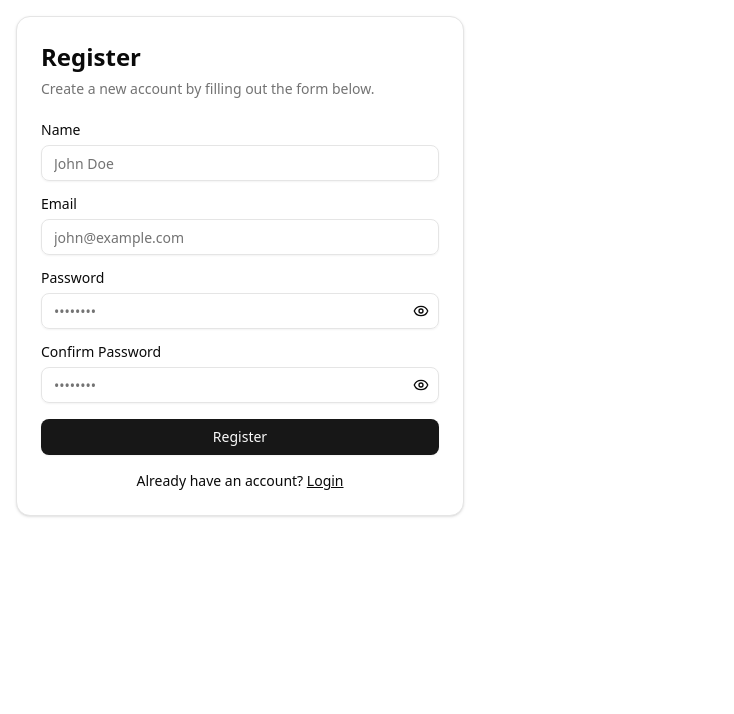
RegisterPage › shows error toast when backend returns an error (e.g., username exists)
Type "existing" into the field labelled "Name".
click(240, 163); type("existing")  # box [41,145,439,181]
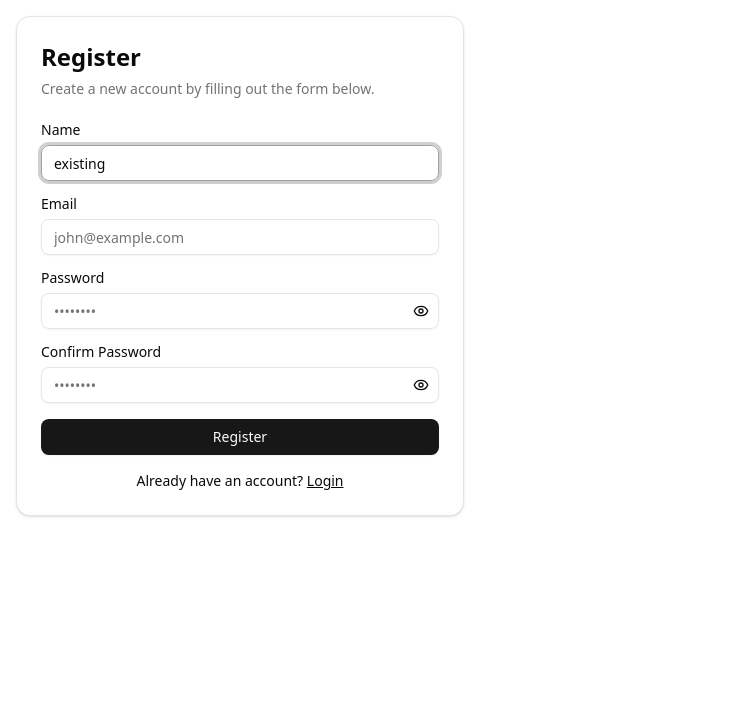
Type "existing@example.com" into the field labelled "Email".
click(240, 237); type("existing@example.com")  # box [41,219,439,255]
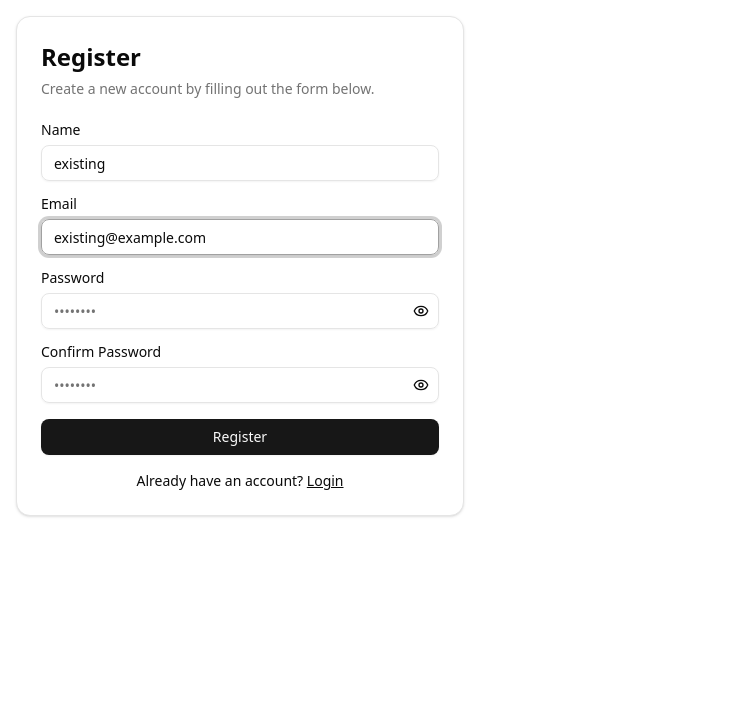
Type "Password123" into the password field labelled "Password".
click(240, 311); type("Password123")  # box [41,293,439,329]
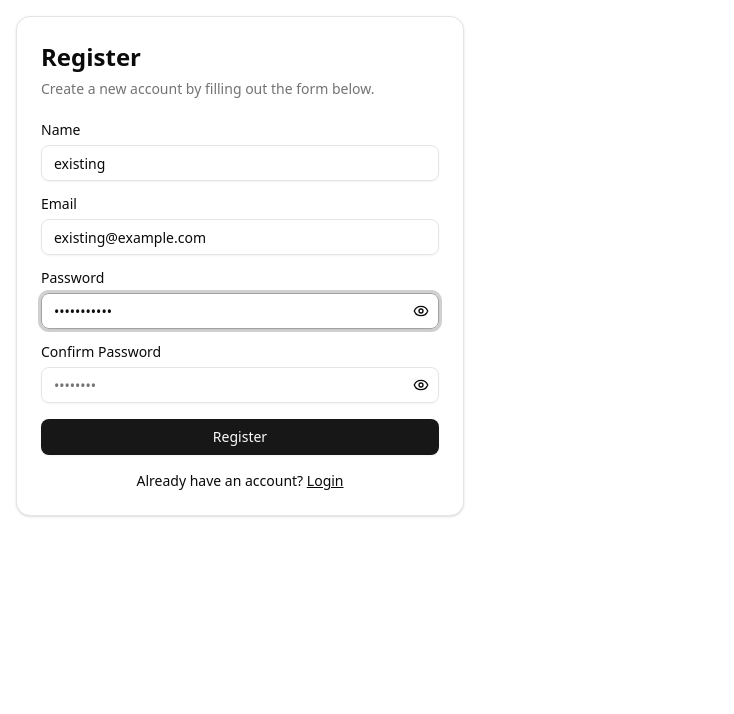
Type "Password123" into the password field labelled "Confirm Password".
click(240, 385); type("Password123")  # box [41,367,439,403]
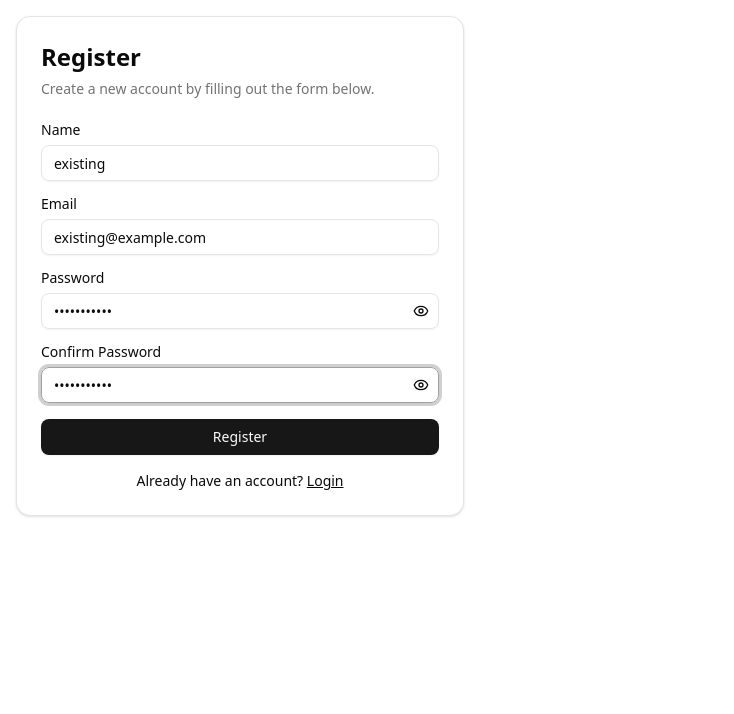
Click the button "Register".
click(240, 437)  # box [41,419,439,455]
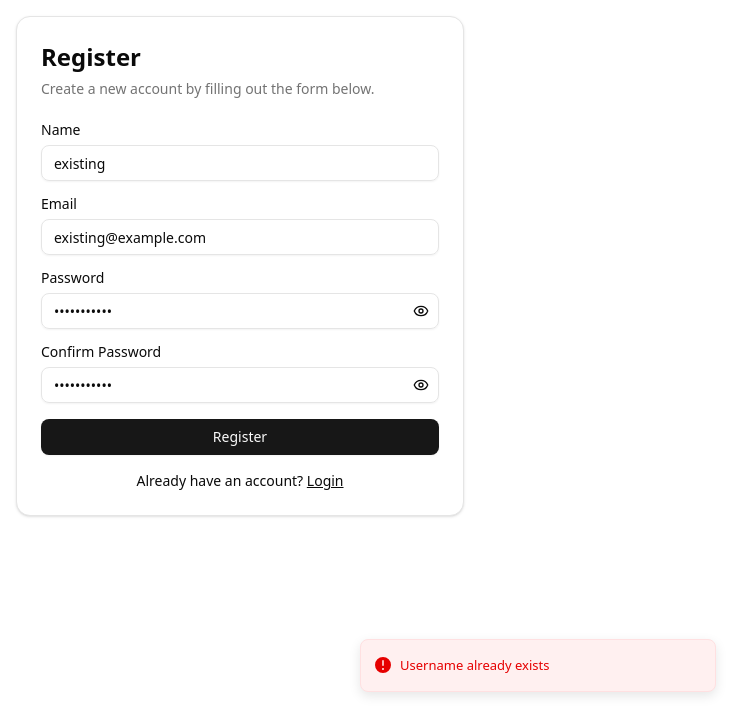
Expected: the list item "Username already exists" is shown, [360,638,716,692]
Expected: the text "Username already exists" is shown, [400,656,550,675]
